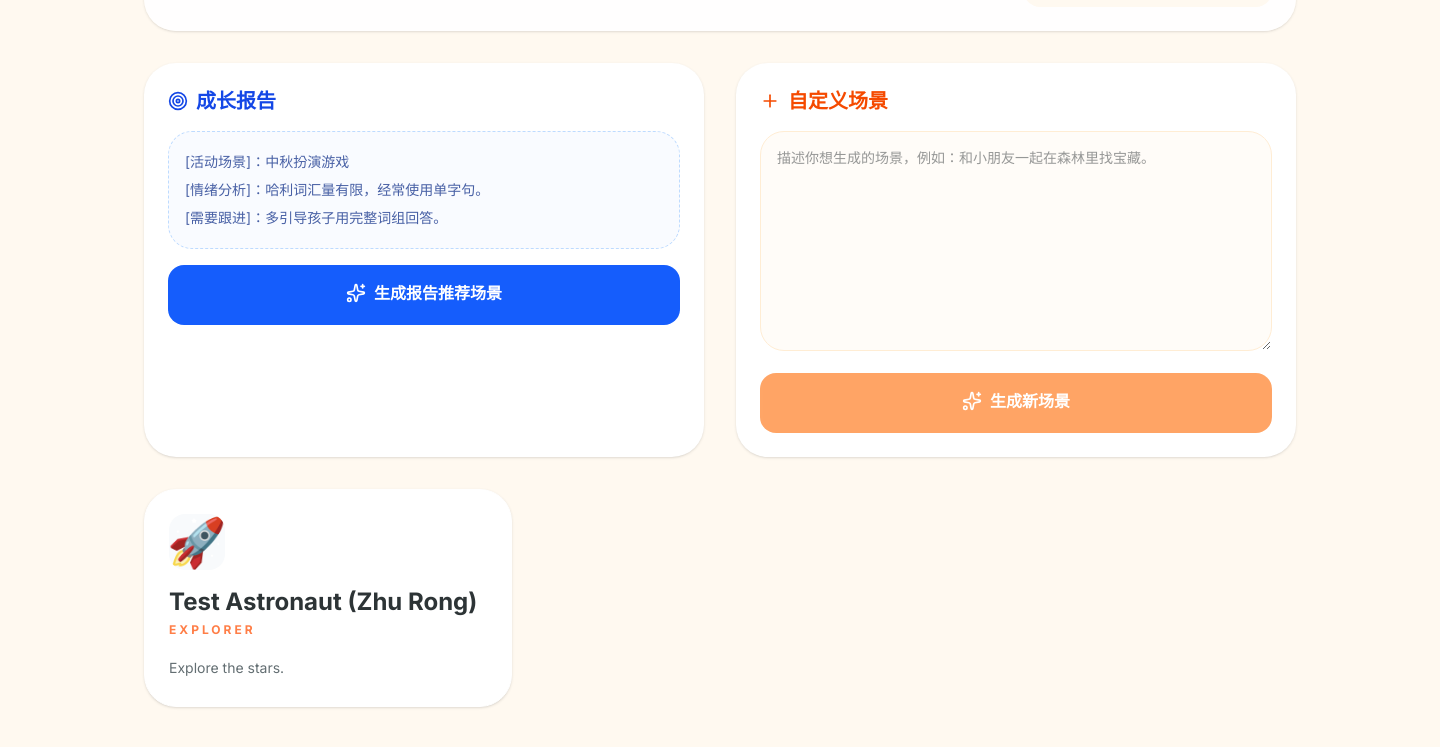
Scenario: App interaction flow › renders only the dialogue bubble even when legacy helper tags are returned
(page scrolled)
Click the heading "Test Astronaut (Zhu Rong)" at (328, 602), box [169,586,487,618]
(page scrolled)
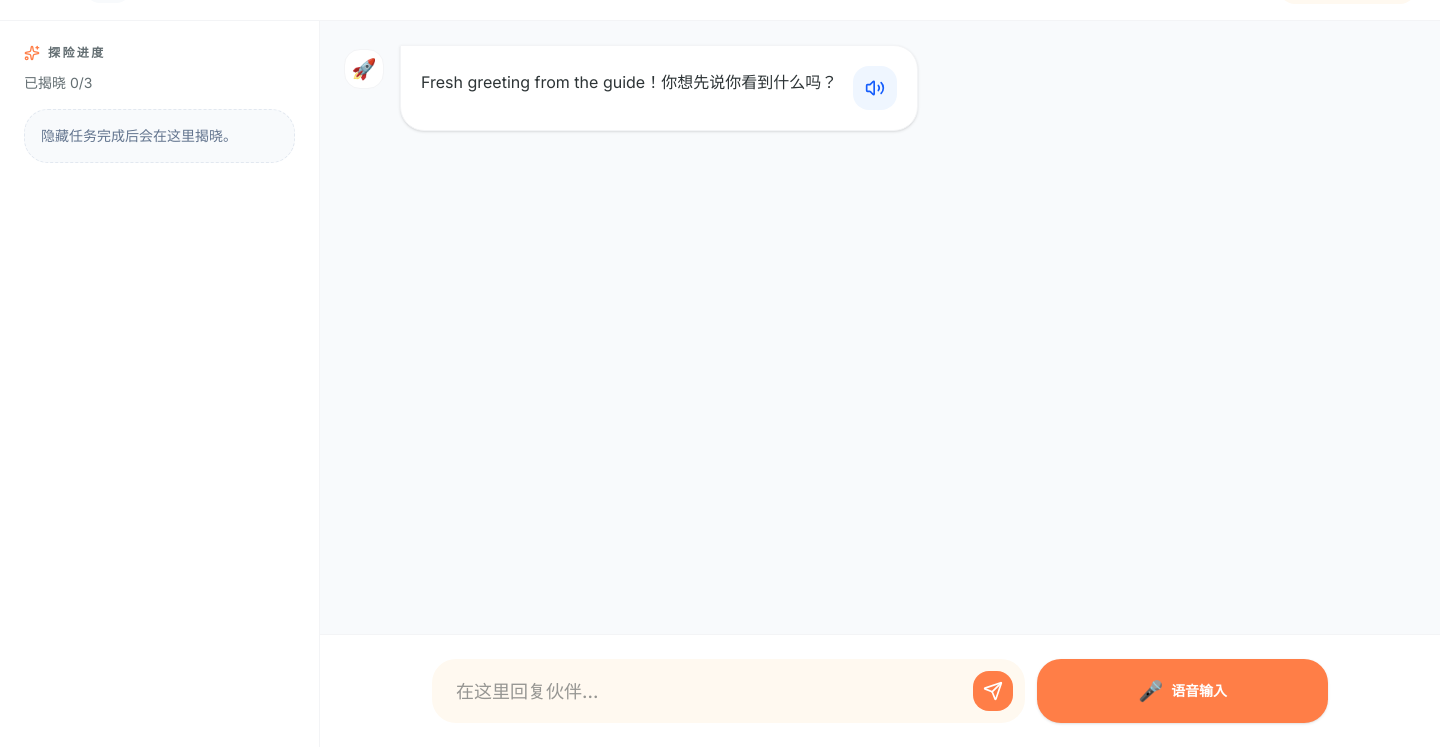
Type "月亮上住着什么呢" into the field at (729, 691), box [432,659,1025,723]
Then press Enter
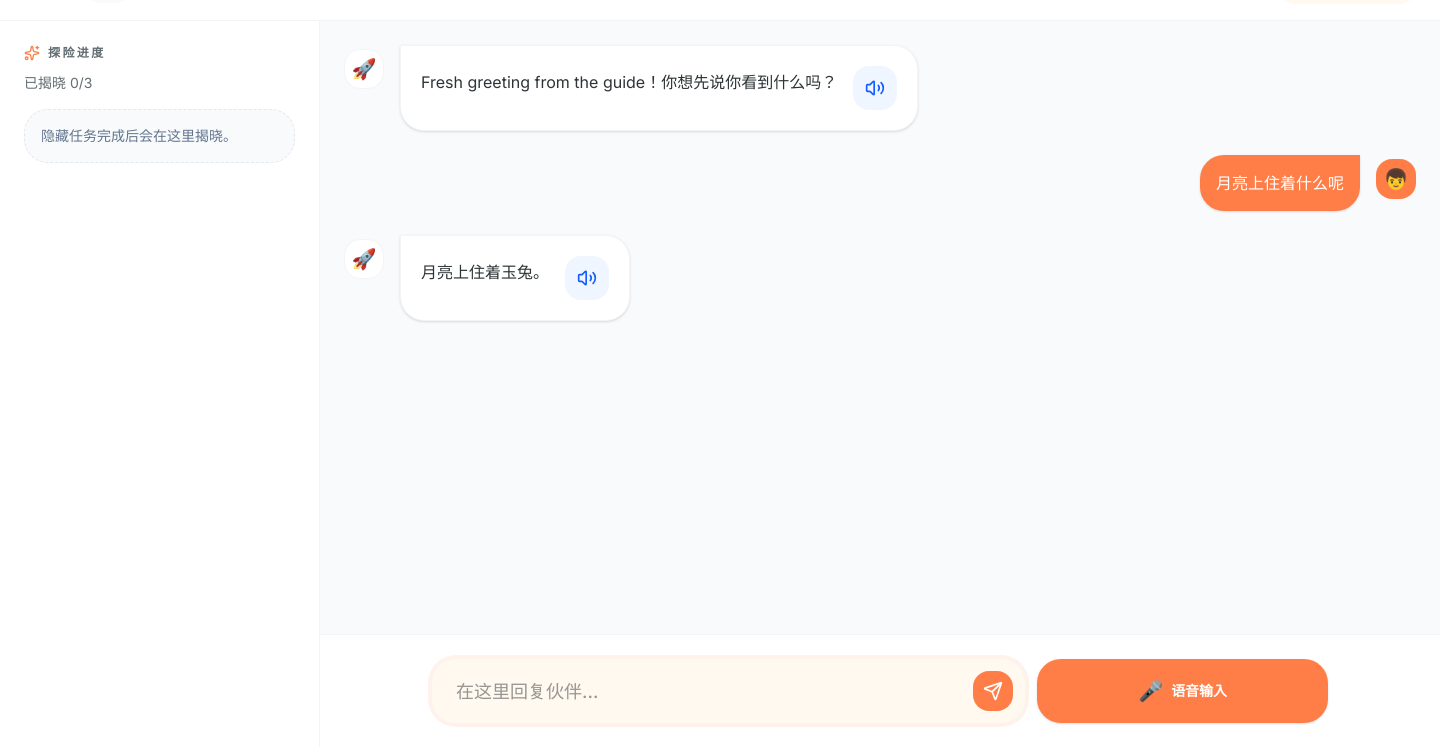
expect the text "月亮上住着玉兔。" is shown: met, box [421,256,549,288]
